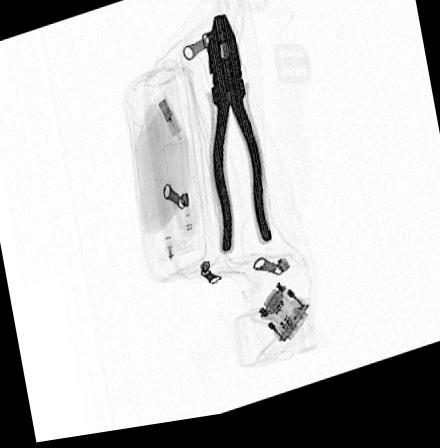Pliers: (203, 18, 273, 261)
